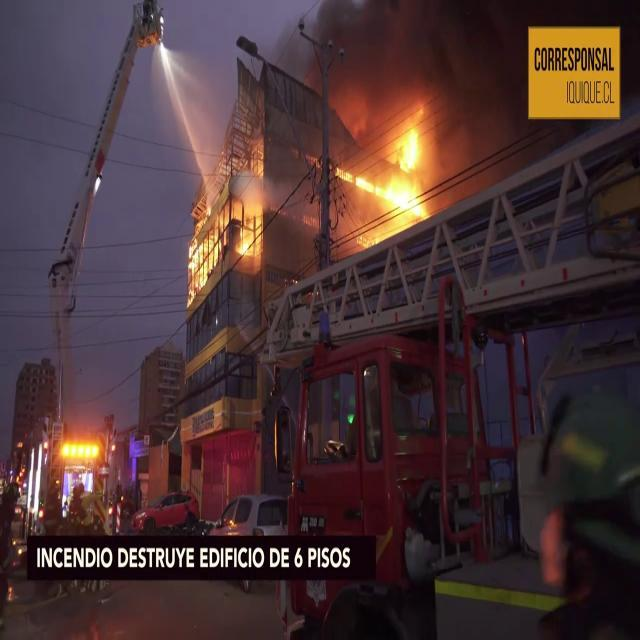Fire: (178, 142, 264, 302), (339, 111, 442, 236)
Smoke: (318, 1, 526, 160)
